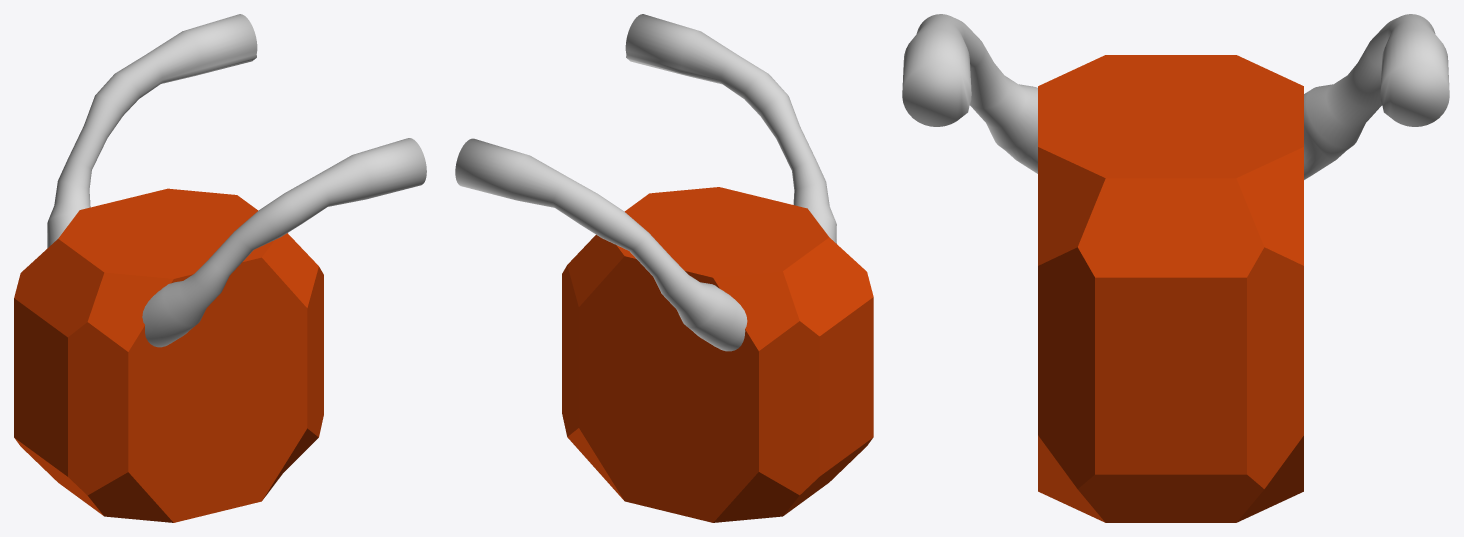
File: engine-tier1.fbx
3 views of the same model, side by side, from view 1: azimuth 30°, elevation 25°; view 2: azimuth 150°, elevation 25°; view 3: azimuth 270°, elevation 25° (orthographic). The views are drawn at different scales.
Parts seen in each view (by area): view 1: Cylinder.001; view 2: Cylinder.001; view 3: Cylinder.001.
Part boxes in pixels (x1=…): Cylinder.001: x1=14, y1=14, x2=426, y2=522; Cylinder.001: x1=455, y1=14, x2=873, y2=522; Cylinder.001: x1=902, y1=14, x2=1449, y2=522.
Bounding box in the file's own units: 1282 × 1512 × 1477.
